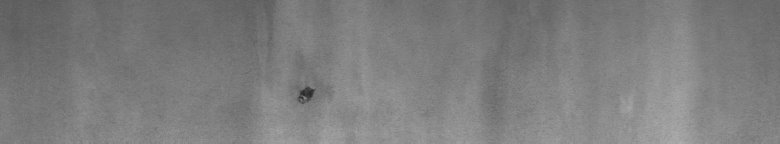fi: (291, 79, 320, 112)
